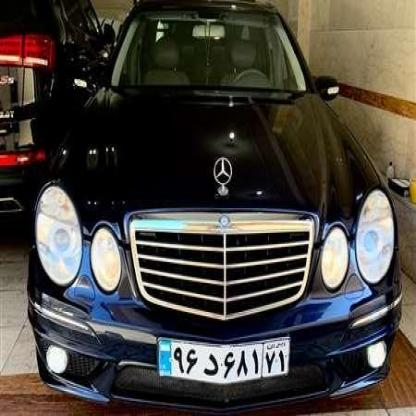Car: (40, 0, 406, 416), (0, 0, 110, 205)
